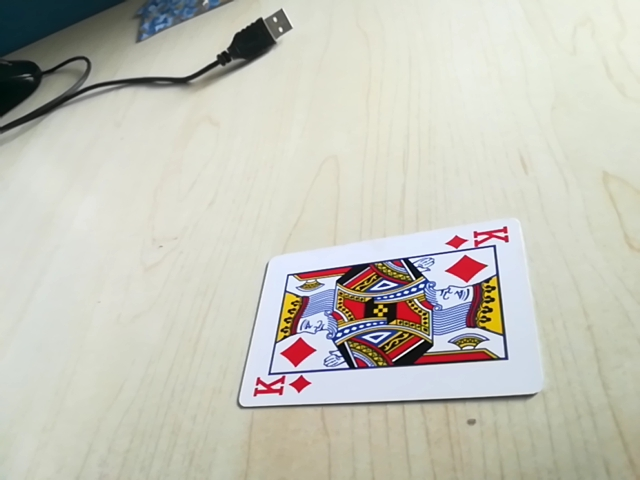fk k: (445, 225, 514, 254), (246, 373, 309, 402)
